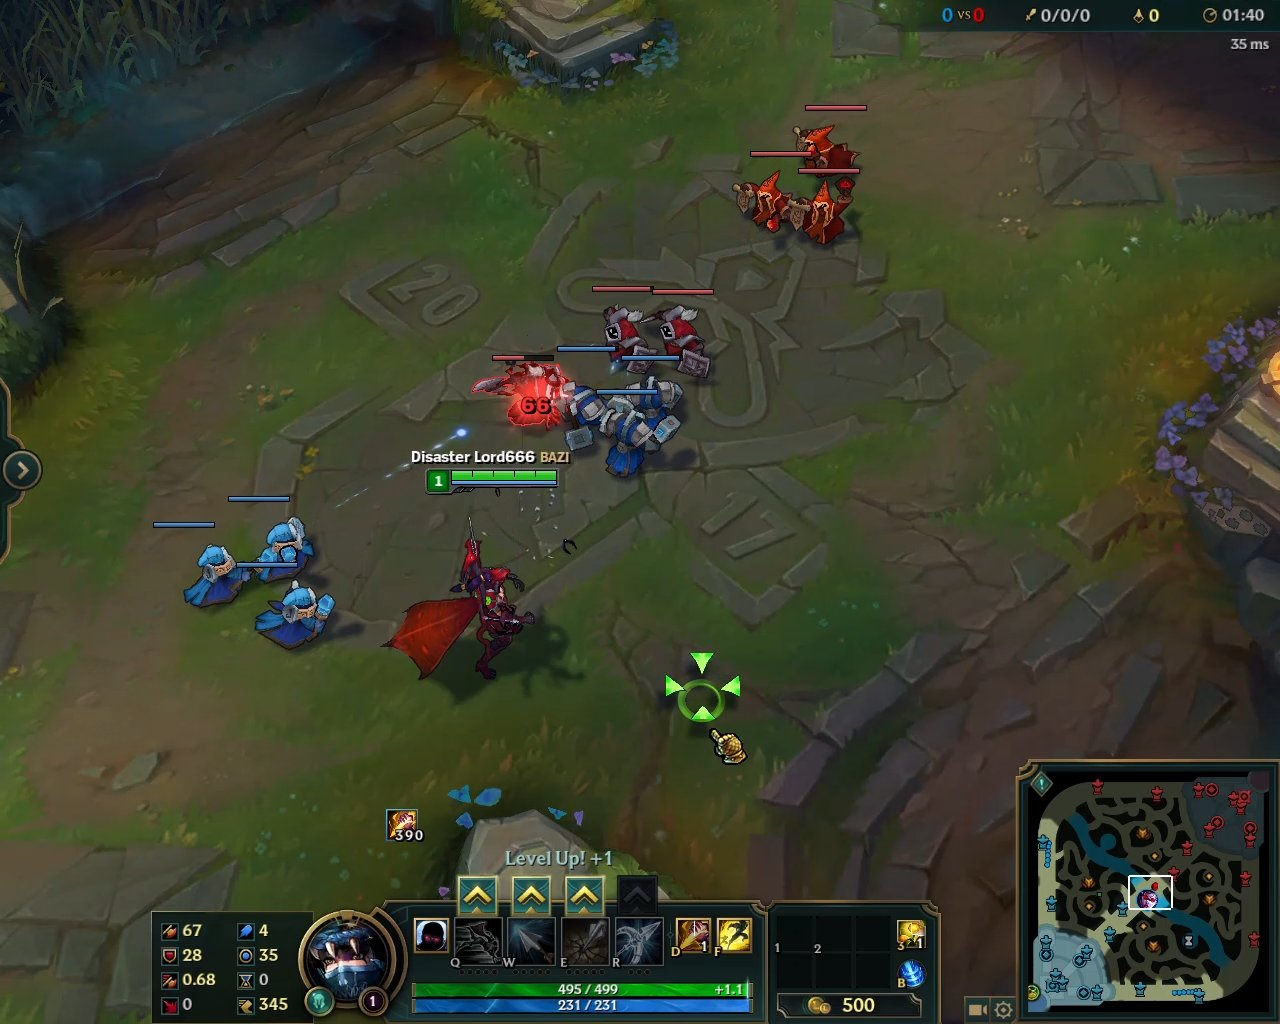EnemyMinion: (472, 351, 557, 439), (731, 150, 811, 234), (592, 285, 660, 379), (784, 168, 862, 245), (789, 104, 867, 181), (657, 287, 717, 381)
Vayne: (380, 515, 541, 690)
